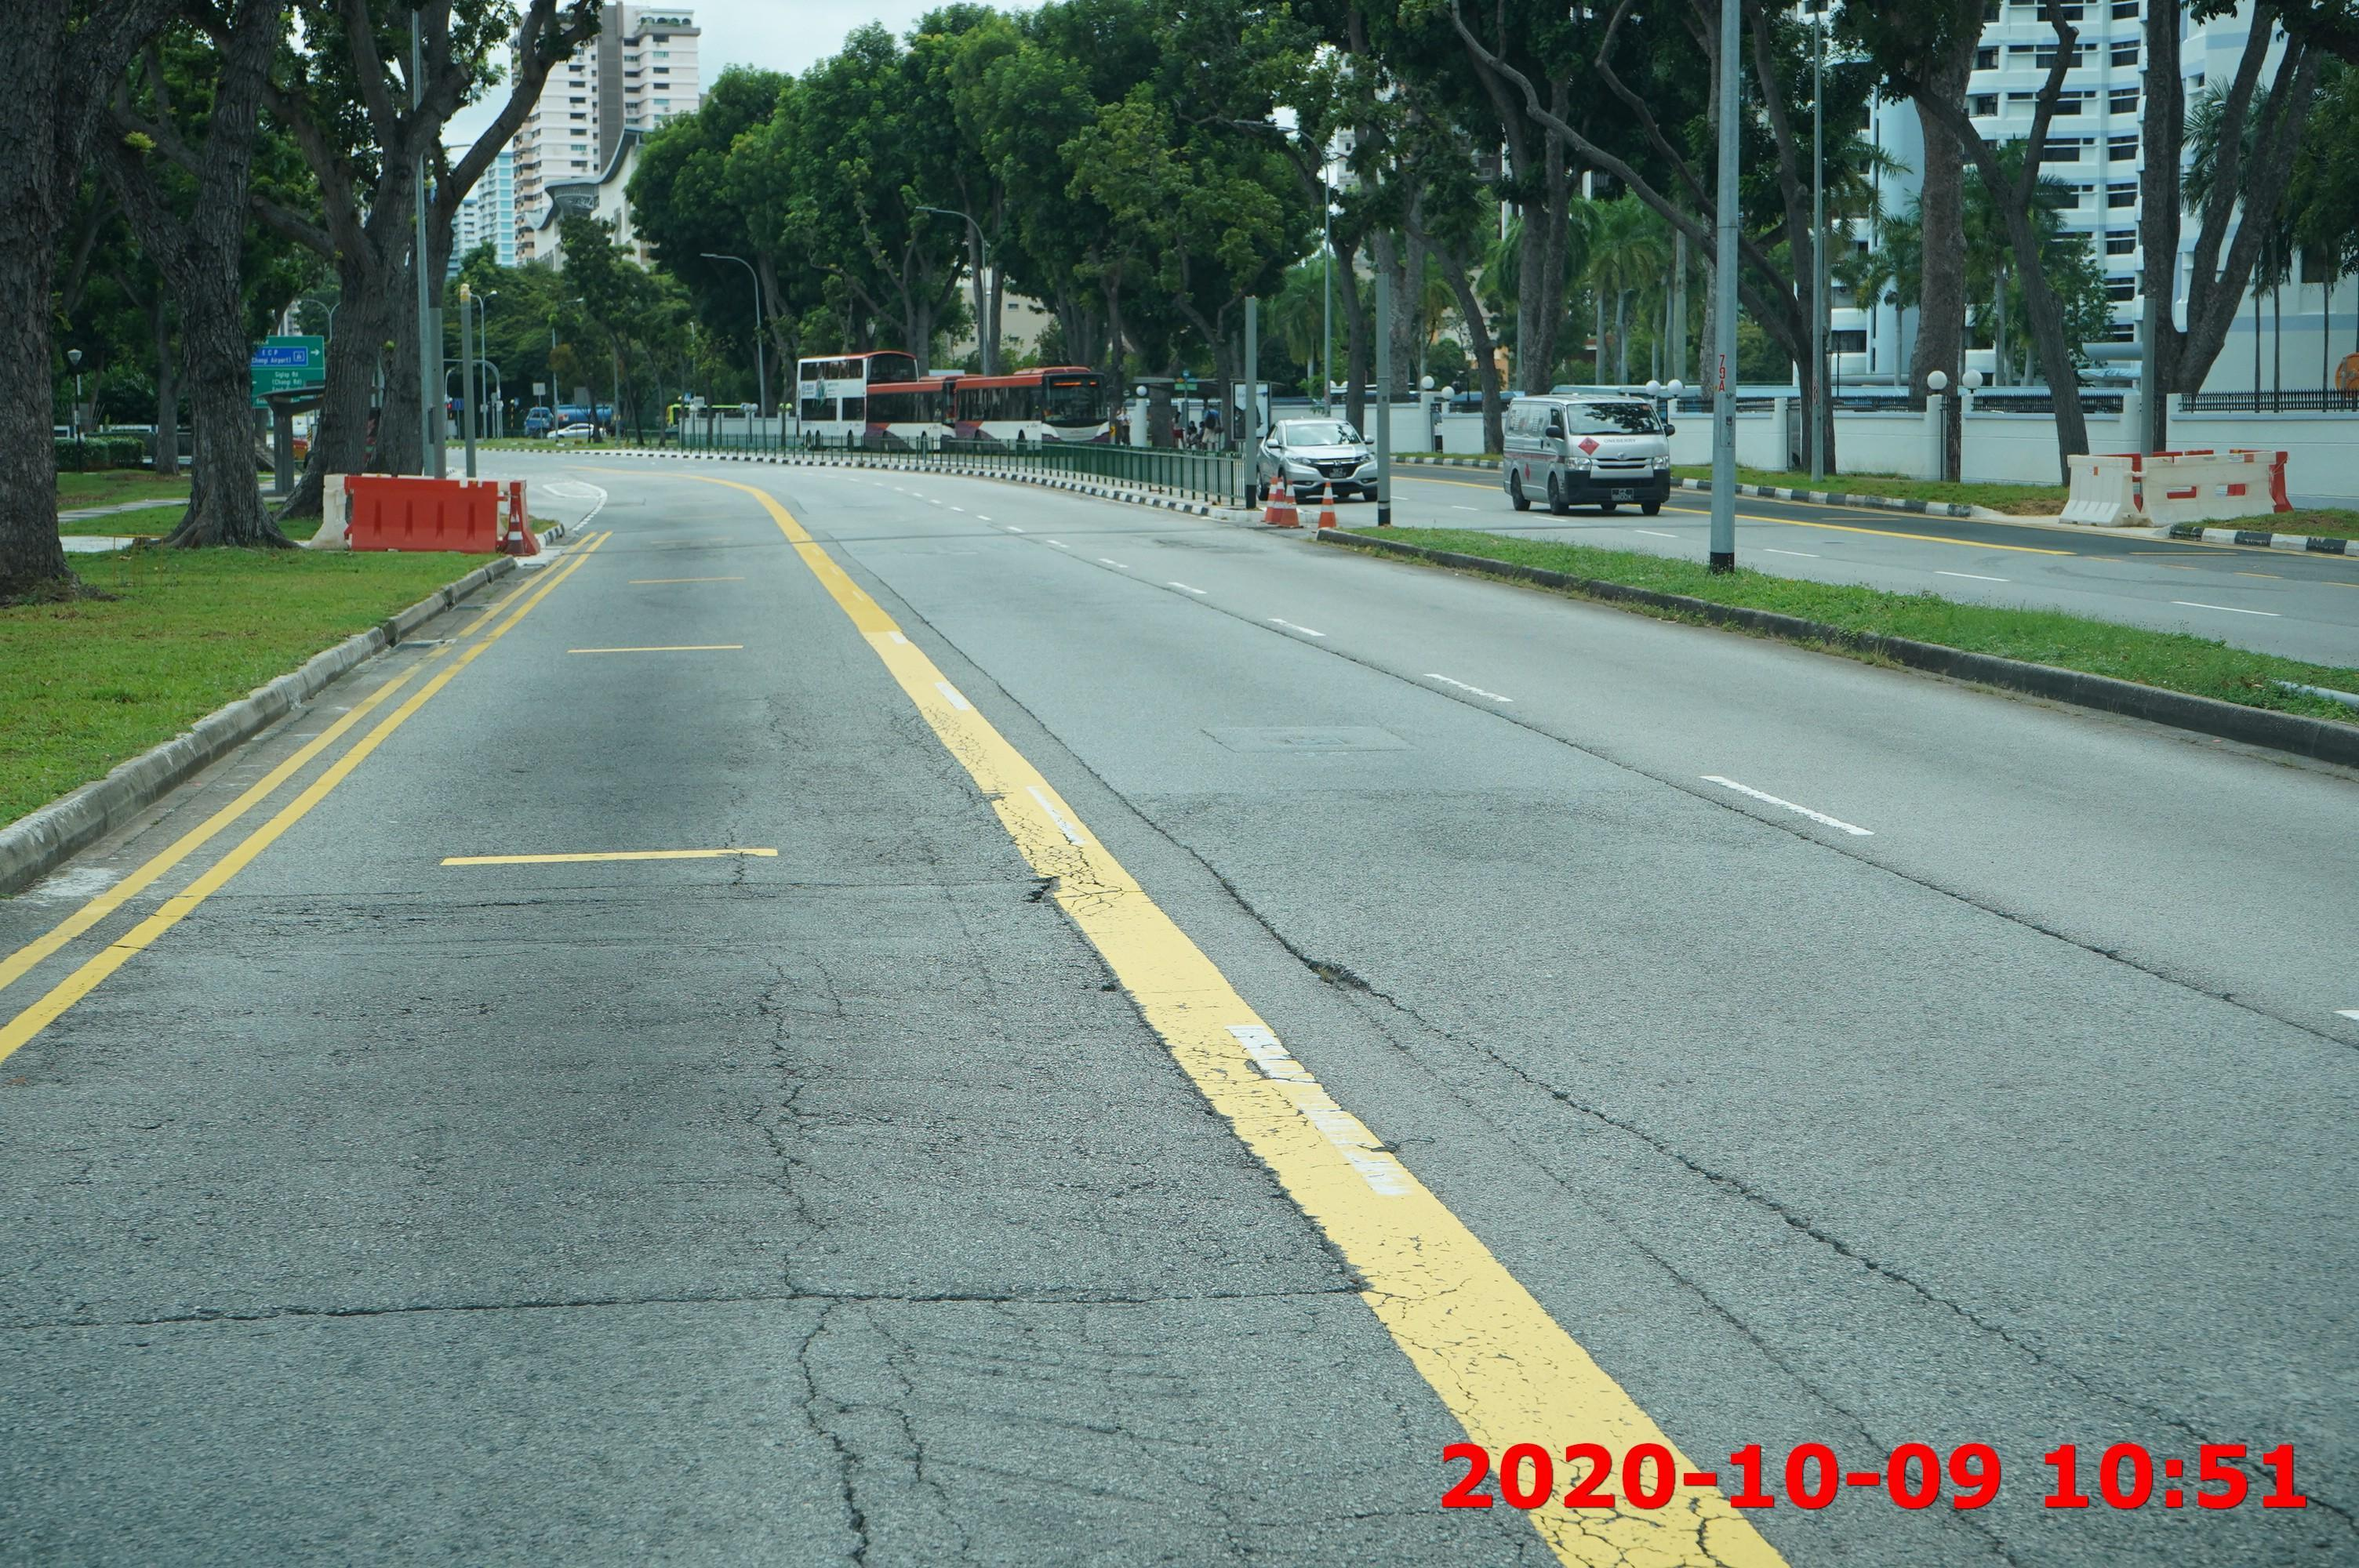multi crack: (1025, 838, 1104, 915)
rigid pavement crack: (779, 1319, 968, 1568)
single crack: (730, 954, 838, 1249)
transverse crack: (0, 1270, 866, 1356)
